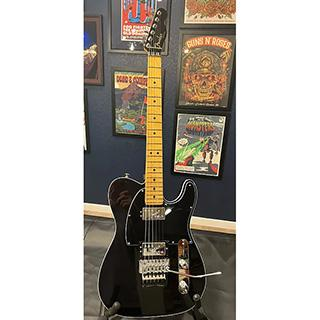Fender Telecaster: (95, 5, 223, 320)
HH: (141, 205, 171, 259)
